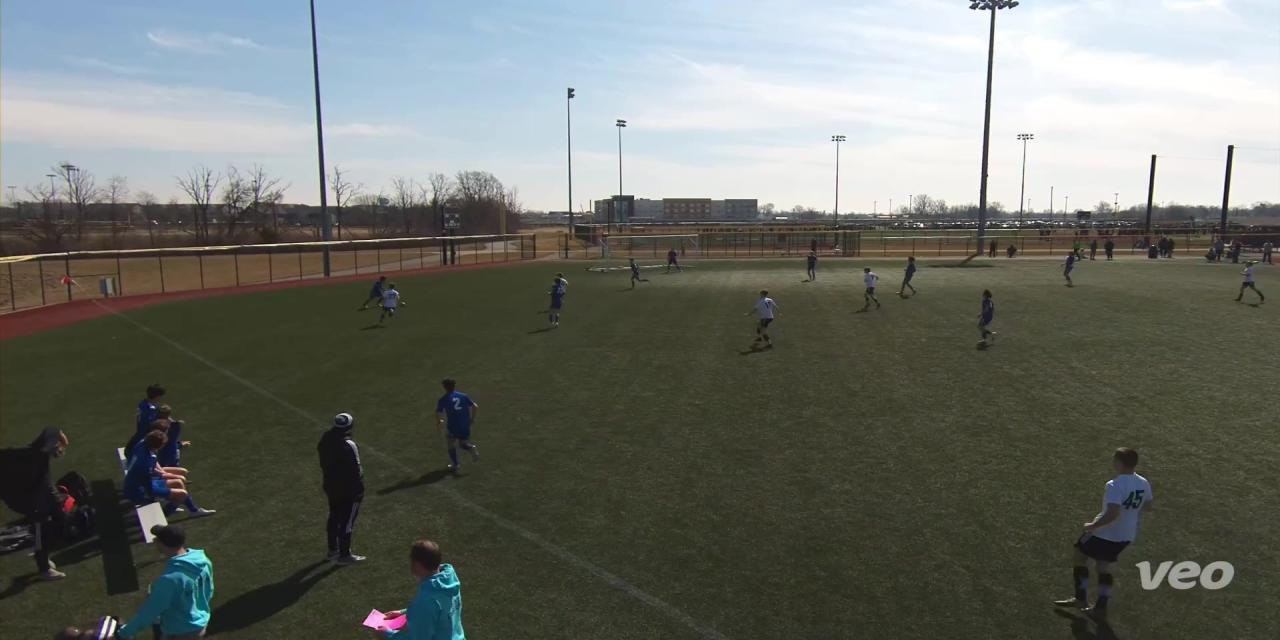goal: (585, 230, 709, 280)
sports ball: (394, 299, 410, 309)
